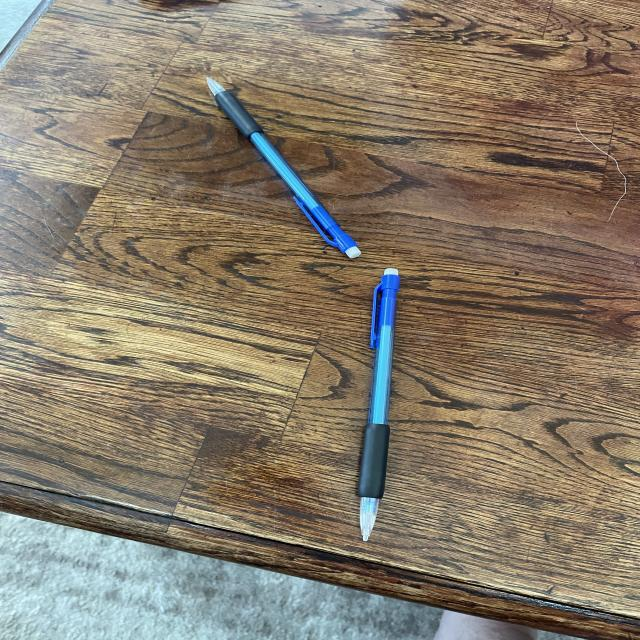mechanical-pencils: (205, 77, 364, 262), (352, 263, 405, 544)
